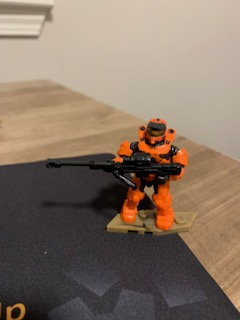spartan: (111, 116, 189, 236)
